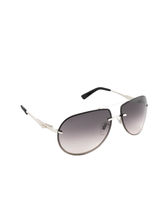glasses: (16, 87, 152, 156)
